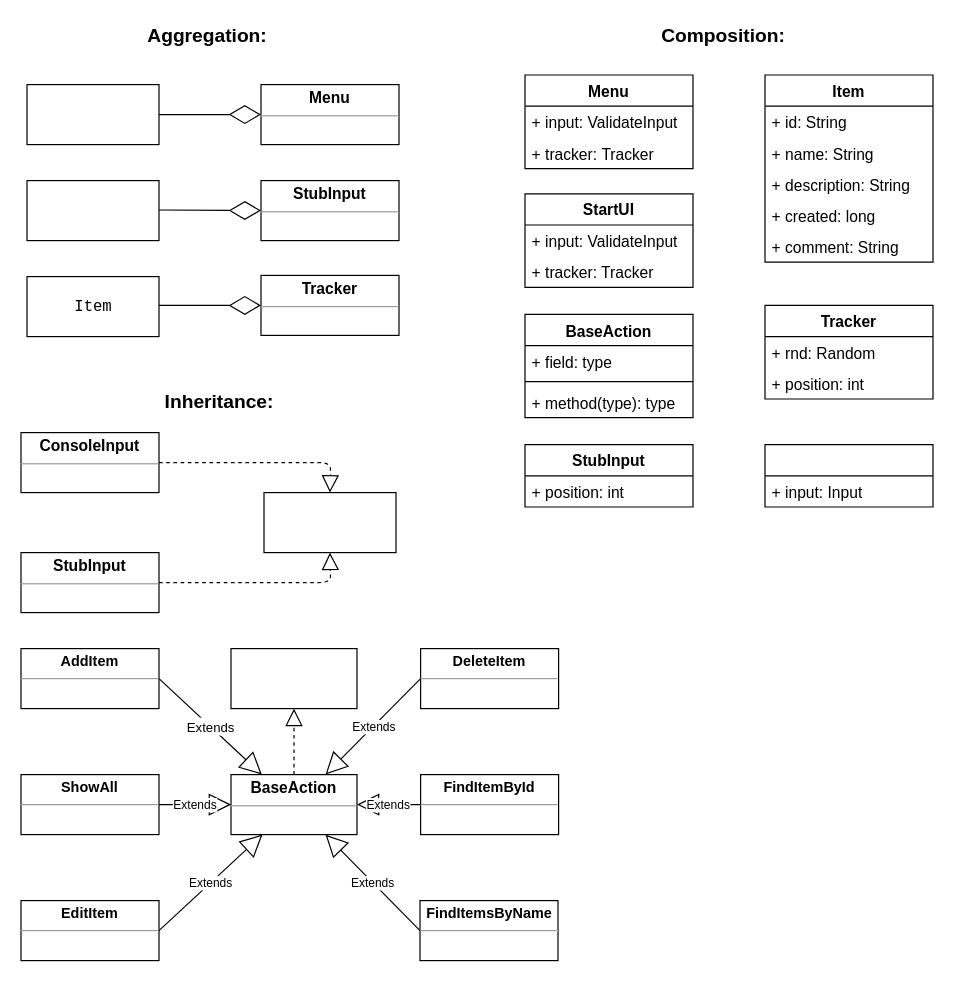
The diagram is 954 pixels wide and 982 high, and some of its shapes have lost their labels. Each missing label, with the box of its shape:
String answers: (26, 179, 159, 241)
UserAction: (26, 83, 159, 145)
ValidateInput: (764, 443, 933, 507)
«interface» Input: (263, 491, 396, 553)
«interface» UserAction: (230, 647, 357, 709)
